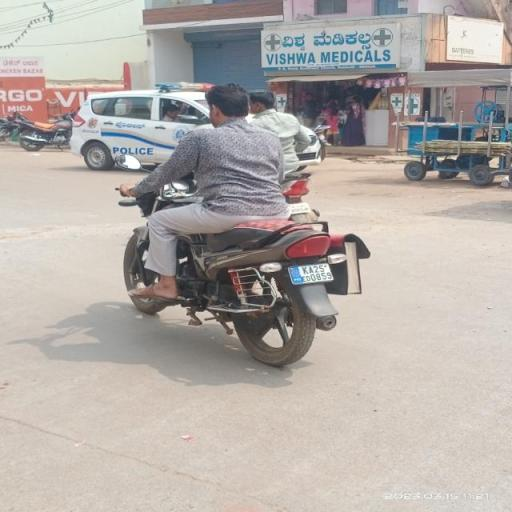bike: (106, 87, 379, 369)
numberplate: (288, 260, 339, 287)
withouthelmet: (210, 87, 250, 122)
